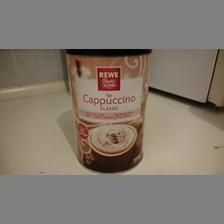Kaffee: (64, 49, 152, 171)
